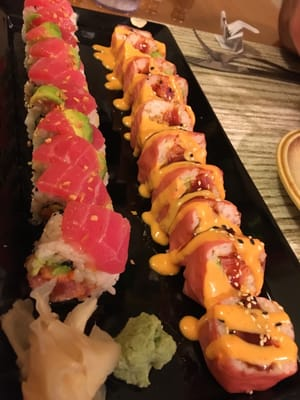curry: (0, 9, 300, 393)
salad: (199, 296, 299, 395)
